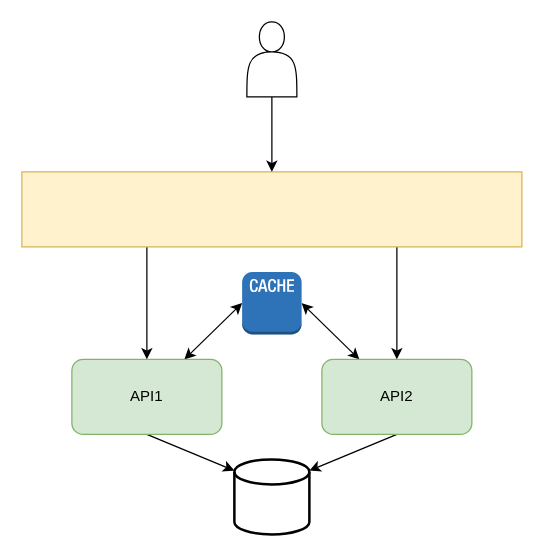
Some shapes in this 544 by 558 pixel diagram are drawn without their labels. The shapes that lost their labels are listed below. From the top down, each one's centre as x and y in pixels, then its label:
At point (271, 209): "Load Balance - Nginx".
At point (271, 496): "DB".
